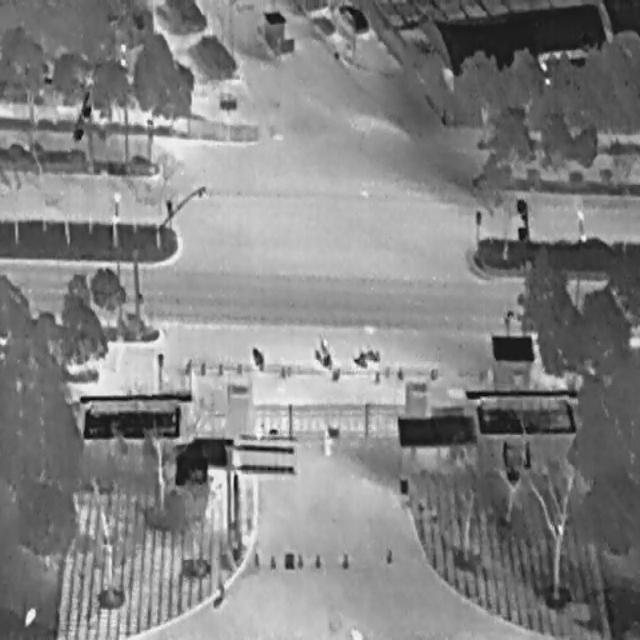Bicycle: (309, 336, 337, 375), (353, 348, 381, 368)
Car: (335, 0, 372, 39)
Person: (322, 428, 332, 458)
